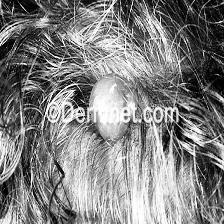Benign Marking or Mole: (89, 73, 136, 138)
